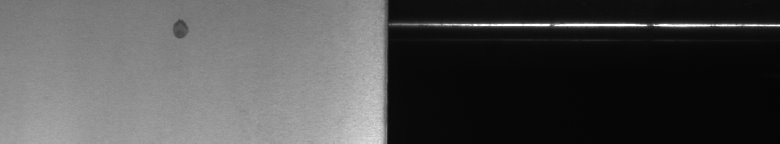fi: (168, 12, 192, 44)
